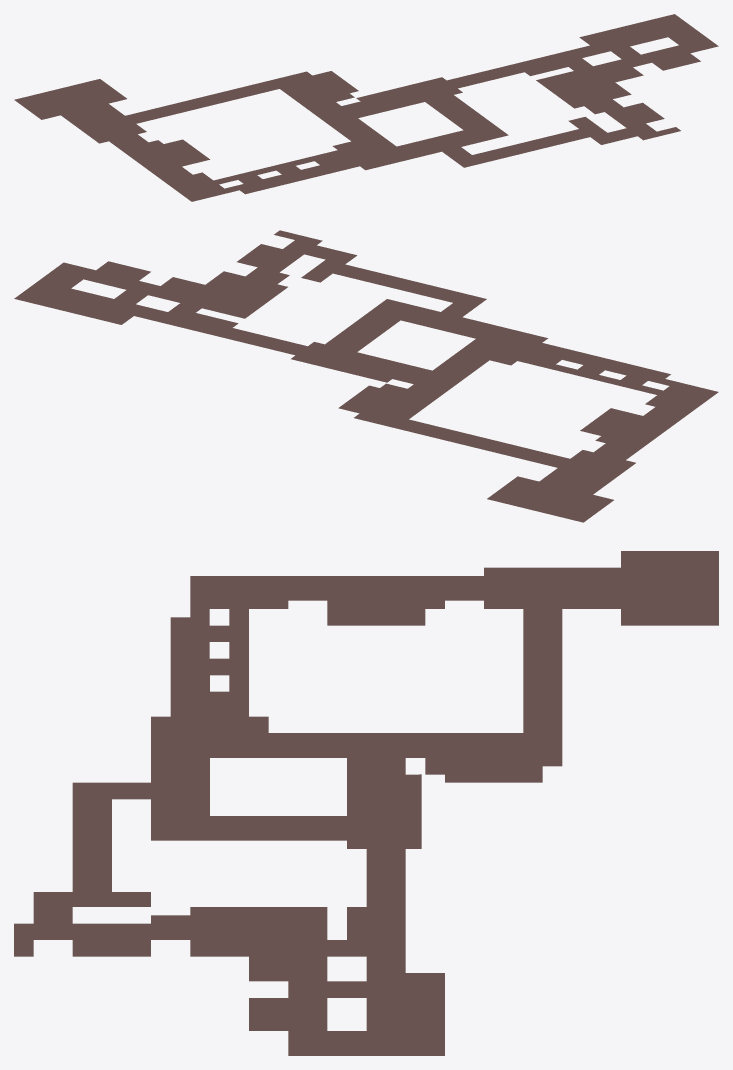
Rendered from _PATH.fbx.
3 views of the same model, one above another, from view 1: azimuth 30°, elevation 25°; view 2: azimuth 150°, elevation 25°; view 3: azimuth 270°, elevation 25° (orthographic). The views are drawn at different scales.
Visible parts, largest first — view 1: Platform.004; view 2: Platform.004; view 3: Platform.004.
Part boxes in pixels (box(x1,y1,x2,y2)): Platform.004: box(14, 14, 718, 201); Platform.004: box(14, 230, 718, 522); Platform.004: box(14, 551, 718, 1055).
Size of the model in its own units: 18300 by 0.0765 by 10800.
